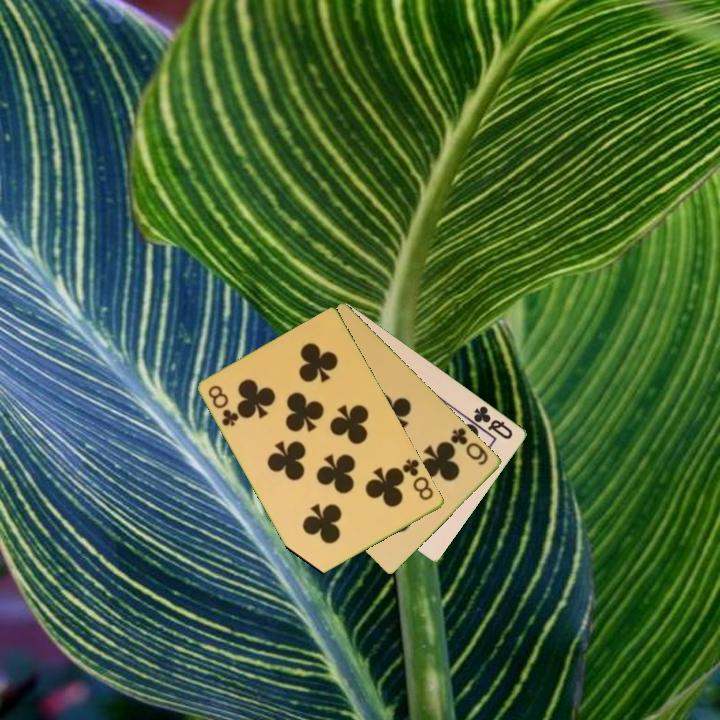6c: (447, 424, 491, 468)
8c: (397, 455, 437, 504), (205, 382, 242, 430)
Qc: (470, 402, 516, 442)
